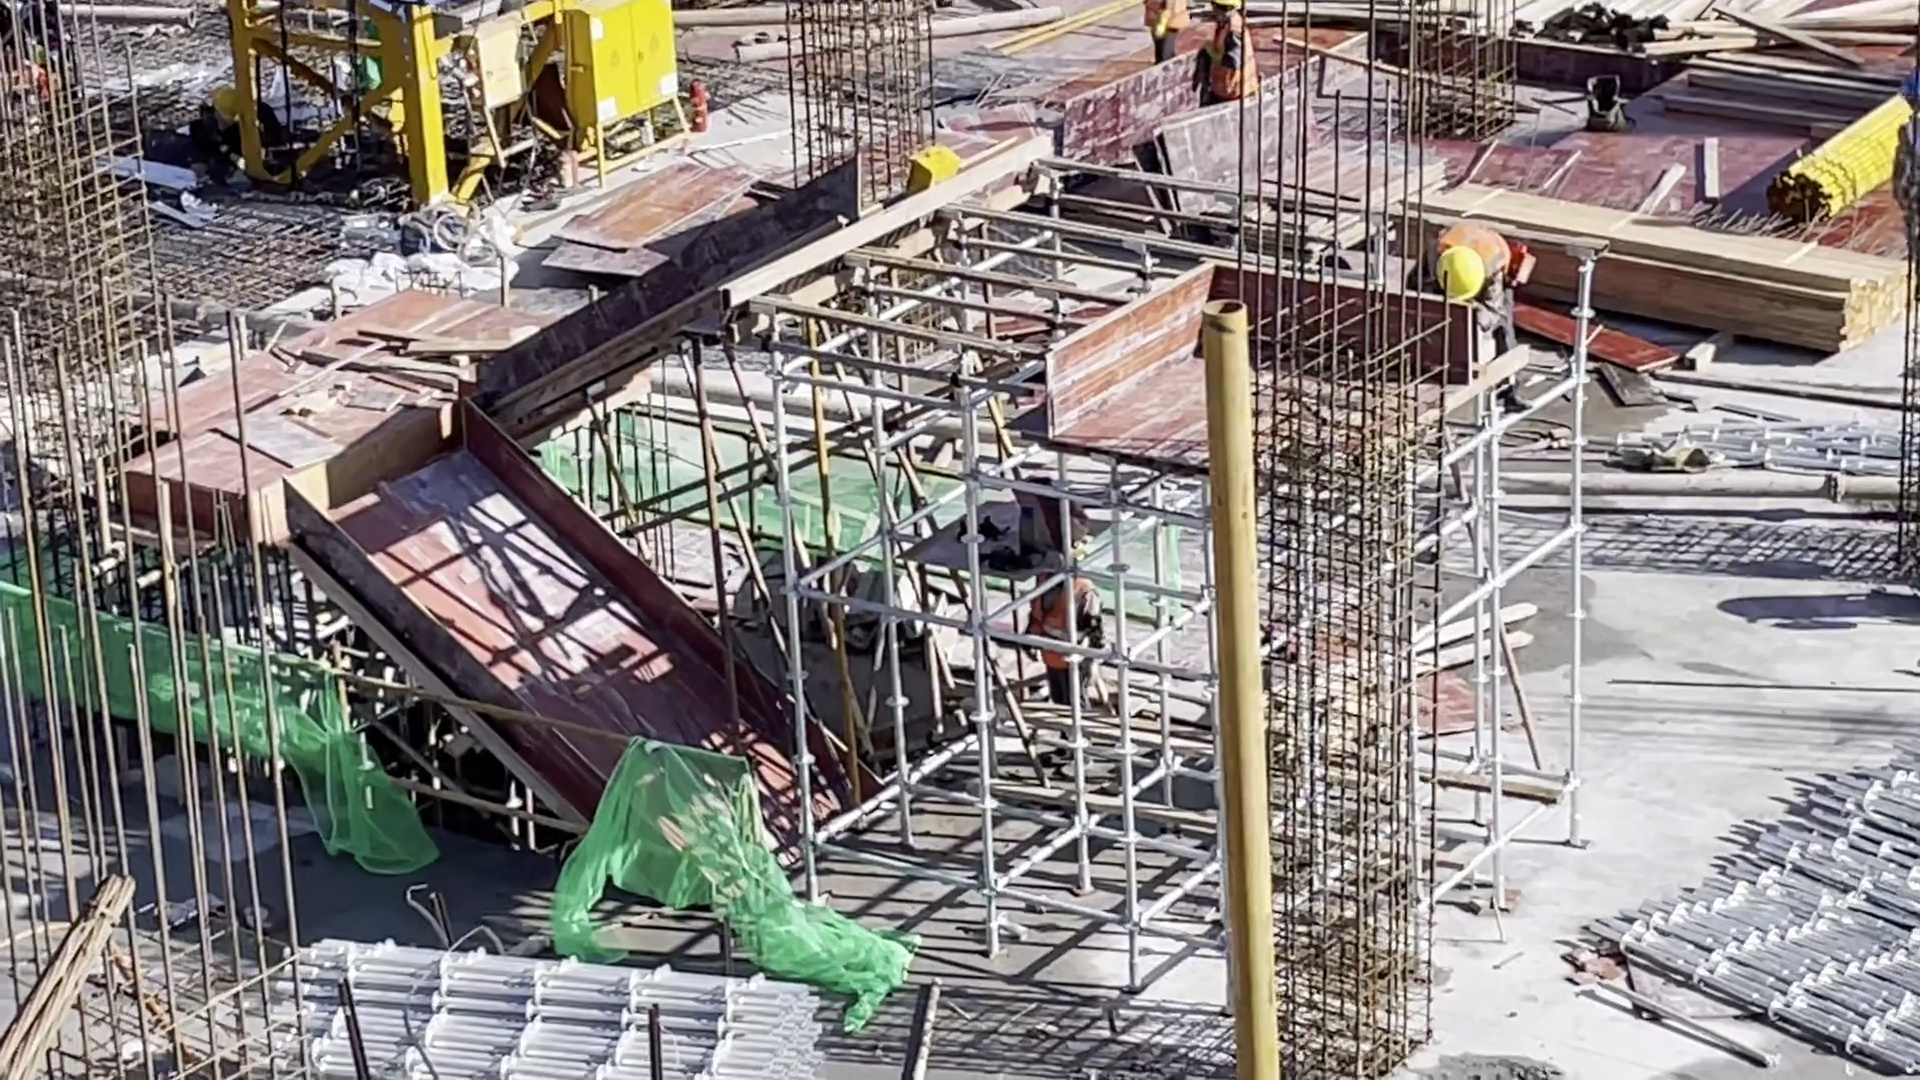helmet: (1433, 240, 1488, 302), (210, 88, 248, 127)
person: (1423, 220, 1533, 411), (1034, 576, 1118, 711), (195, 83, 273, 169), (1199, 4, 1252, 101), (1143, 1, 1193, 60)
vest: (1036, 582, 1092, 666), (1207, 21, 1259, 97), (1437, 213, 1504, 264)
